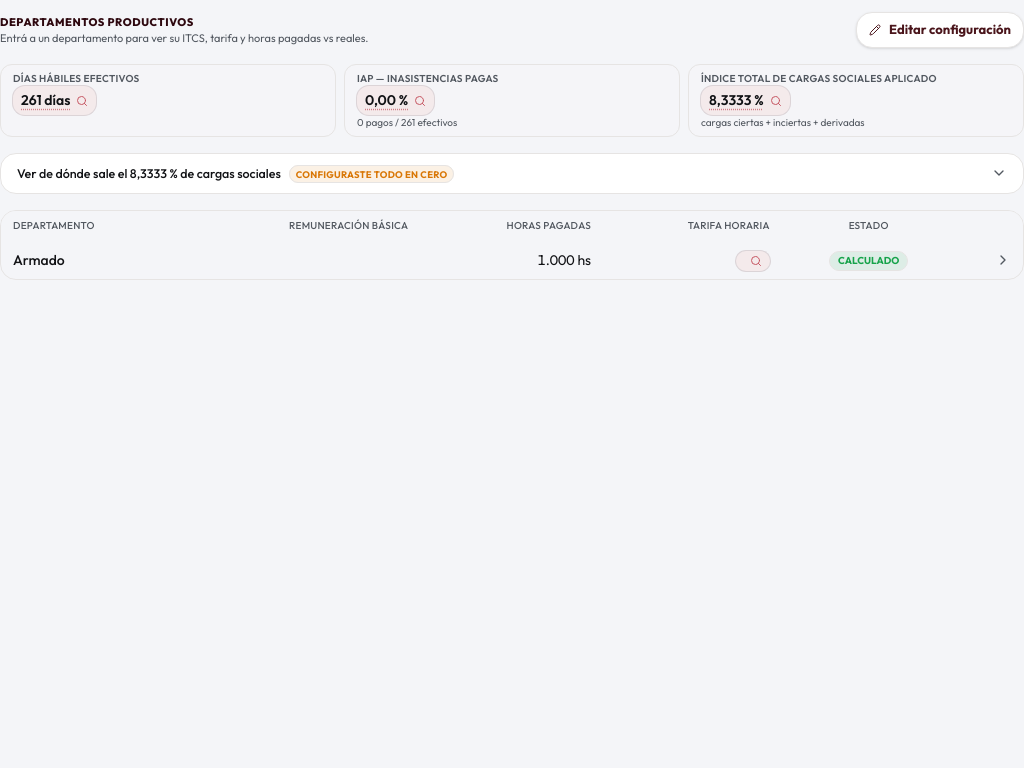
hoja de MOD — una estructura vieja se ve exactamente como antes › no inventa advertencias ni deja campos con pinta de faltantes
Expected: the text "sin cargar" is not shown
# La tarifa sigue explicándose con la fórmula de siempre.
Click the text "Armado".
click(39, 260)  # box 1,241 -> 179,279
(page scrolled)
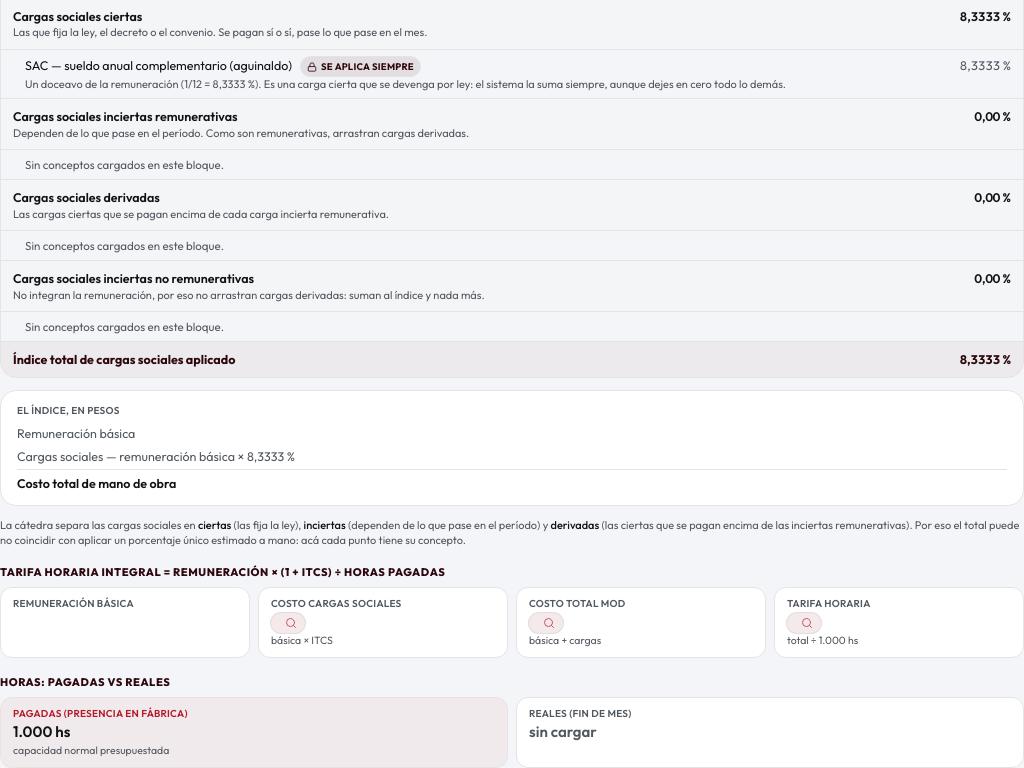
Expected: the heading "remuneración × (1 + ITCS) ÷ horas pagadas" is shown, 0,565 -> 445,579
